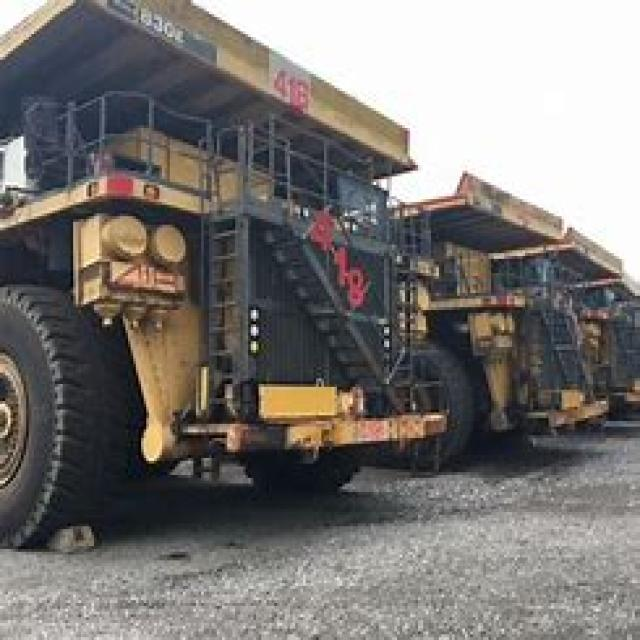dump_truck: (0, 0, 447, 546), (452, 120, 614, 487)
